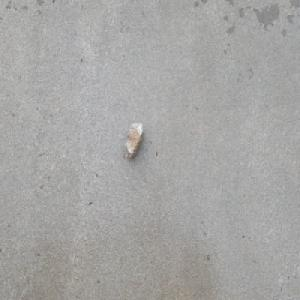Rock: (124, 122, 144, 161)
